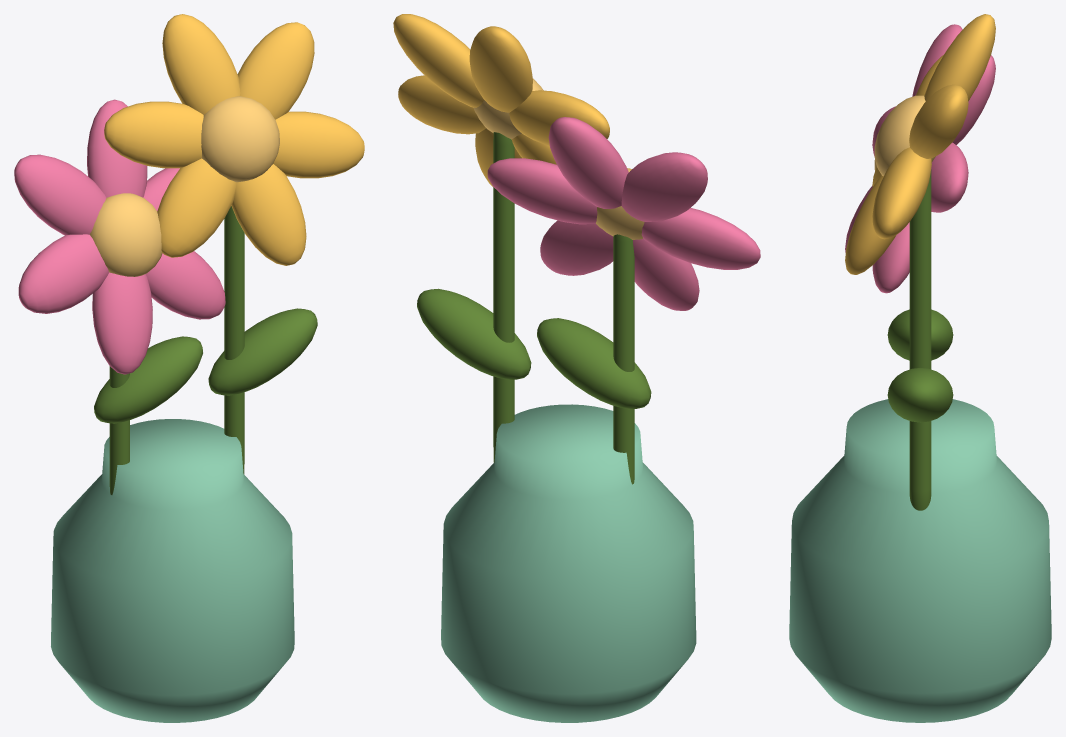
File: table-flower-vase.obj
3 renders of one model, left to right at view 1: azimuth 30°, elevation 25°; view 2: azimuth 150°, elevation 25°; view 3: azimuth 270°, elevation 25°, orthographic. The views are drawn at different scales.
Visible parts, largest first — view 1: table-flower-vase_mint, table-flower-vase_petalYellow, table-flower-vase_petalPink, table-flower-vase_leaf, table-flower-vase_seed; view 2: table-flower-vase_mint, table-flower-vase_petalPink, table-flower-vase_leaf, table-flower-vase_petalYellow, table-flower-vase_seed; view 3: table-flower-vase_mint, table-flower-vase_petalYellow, table-flower-vase_leaf, table-flower-vase_petalPink, table-flower-vase_seed.
Part boxes in pixels (<box>): table-flower-vase_mint: <box>51,419,294,722</box>; table-flower-vase_petalYellow: <box>104,14,364,265</box>; table-flower-vase_petalPink: <box>14,99,225,374</box>; table-flower-vase_leaf: <box>94,206,317,494</box>; table-flower-vase_seed: <box>89,96,279,276</box>; table-flower-vase_mint: <box>441,404,696,722</box>; table-flower-vase_petalPink: <box>487,117,760,310</box>; table-flower-vase_leaf: <box>417,132,651,484</box>; table-flower-vase_petalYellow: <box>393,14,609,186</box>; table-flower-vase_seed: <box>473,78,644,239</box>; table-flower-vase_mint: <box>789,399,1051,722</box>; table-flower-vase_petalYellow: <box>845,14,995,274</box>; table-flower-vase_leaf: <box>887,169,953,510</box>; table-flower-vase_petalPink: <box>845,24,995,293</box>; table-flower-vase_seed: <box>874,95,935,176</box>.
Size of the model in its own units: 0.1559 by 0.277 by 0.096.
